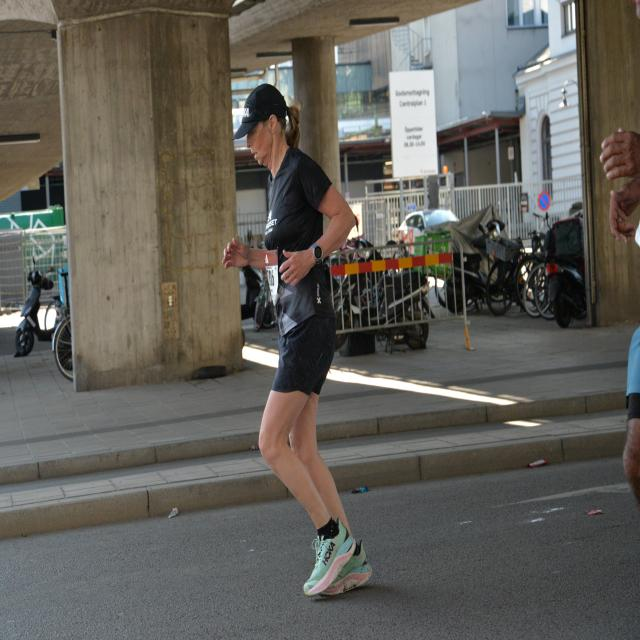runner-detect: (213, 67, 390, 593)
